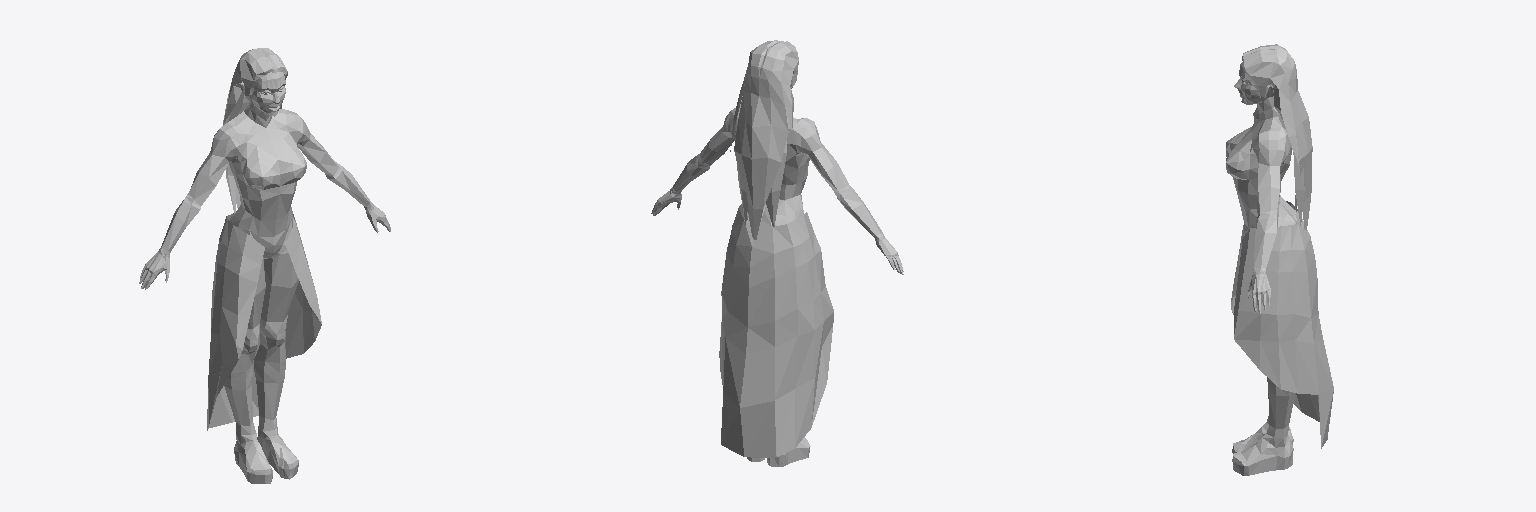
Rendered from girl3.obj.
3 views of the same model, side by side, from view 1: azimuth 30°, elevation 25°; view 2: azimuth 150°, elevation 25°; view 3: azimuth 270°, elevation 25° (orthographic).
Size of the model in its own units: 8.45 by 13.45 by 3.16.